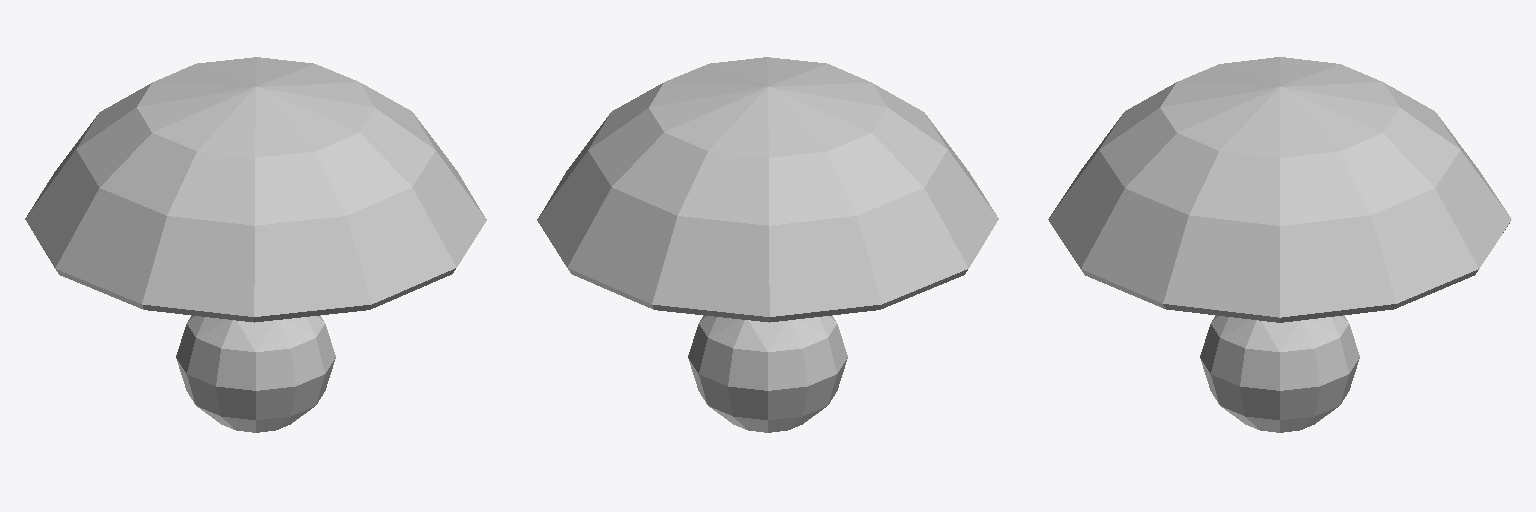
Rendered from Spring.obj.
3 renders of one model, left to right at view 1: azimuth 30°, elevation 25°; view 2: azimuth 150°, elevation 25°; view 3: azimuth 270°, elevation 25°, orthographic.
Visible parts, largest first — view 1: cmn_obj_springred_dif_SD; view 2: cmn_obj_springred_dif_SD; view 3: cmn_obj_springred_dif_SD.
Part boxes in pixels (left/top/right/bottom): cmn_obj_springred_dif_SD: left=25, top=57, right=486, bottom=432; cmn_obj_springred_dif_SD: left=537, top=57, right=998, bottom=432; cmn_obj_springred_dif_SD: left=1048, top=57, right=1511, bottom=432.
Bounding box in the file's own units: 15.21 × 12.23 × 15.21.